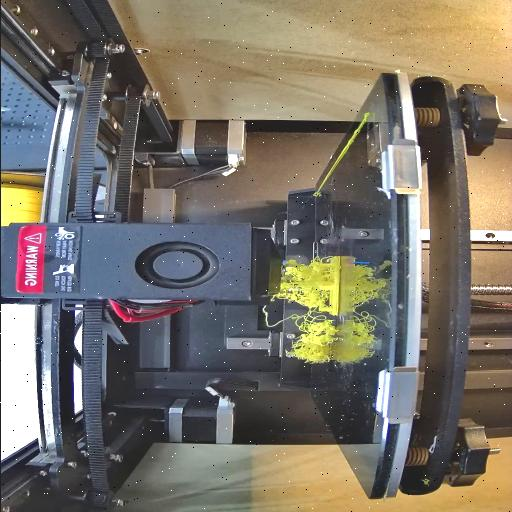spaghetti: (268, 254, 334, 372)
